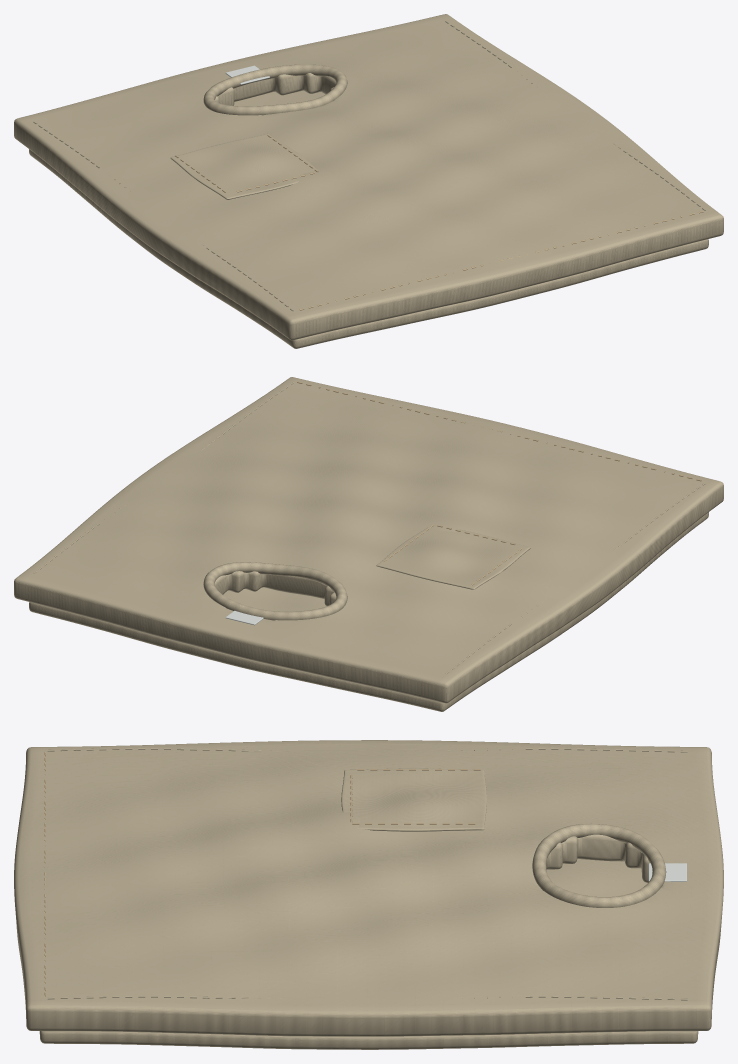
File: Folded_TShirt_cm.glb
3 views of the same model, one above another, from view 1: azimuth 30°, elevation 25°; view 2: azimuth 150°, elevation 25°; view 3: azimuth 270°, elevation 25° (orthographic). The views are drawn at different scales.
Visible parts, largest first — view 1: TShirt_MainFold, TShirt_FoldedSleeveLayer, TShirt_ChestPocket, TShirt_RibbedCollar; view 2: TShirt_MainFold, TShirt_FoldedSleeveLayer, TShirt_ChestPocket, TShirt_RibbedCollar; view 3: TShirt_MainFold, TShirt_FoldedSleeveLayer, TShirt_ChestPocket, TShirt_RibbedCollar, TShirt_SideDoubleStitch, TShirt_SideDoubleStitch.001.
Boxes of the visible parts, <box> form: TShirt_MainFold: <box>14,14,723,340</box>; TShirt_FoldedSleeveLayer: <box>29,90,708,348</box>; TShirt_ChestPocket: <box>170,133,318,199</box>; TShirt_RibbedCollar: <box>203,64,347,115</box>; TShirt_MainFold: <box>14,377,723,703</box>; TShirt_FoldedSleeveLayer: <box>29,512,708,711</box>; TShirt_ChestPocket: <box>376,527,530,589</box>; TShirt_RibbedCollar: <box>203,562,347,620</box>; TShirt_MainFold: <box>14,740,723,1036</box>; TShirt_FoldedSleeveLayer: <box>39,859,698,1049</box>; TShirt_ChestPocket: <box>341,768,486,831</box>; TShirt_RibbedCollar: <box>532,823,666,907</box>; TShirt_SideDoubleStitch: <box>47,748,687,752</box>; TShirt_SideDoubleStitch.001: <box>47,996,687,1000</box>.
Bounding box in the file's own units: 9.32 × 1.01 × 10.17.
Materials: 3 (1 with a texture image).
